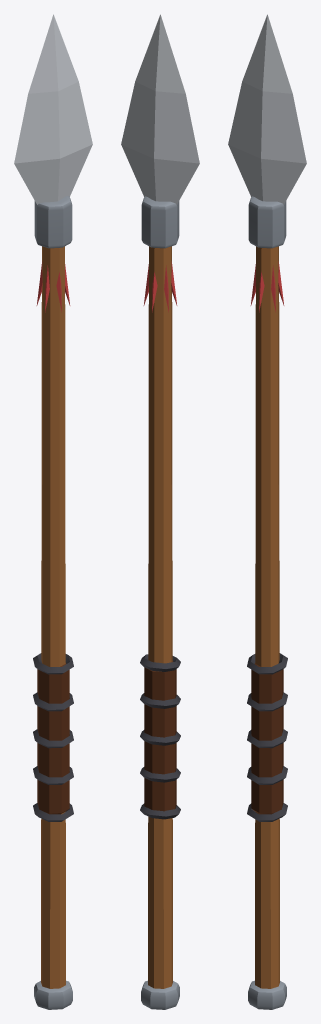
The model's file is IronSpear.fbx.
3 views of the same model, side by side, from view 1: azimuth 30°, elevation 25°; view 2: azimuth 150°, elevation 25°; view 3: azimuth 330°, elevation 25° (orthographic).
Visible parts, largest first — view 1: IronSpear; view 2: IronSpear; view 3: IronSpear.
Boxes of the visible parts, x1,y1,x2,y2 form: IronSpear: [14, 14, 92, 1009]; IronSpear: [121, 14, 199, 1009]; IronSpear: [228, 14, 306, 1009].
Bounding box in the file's own units: 0.56 × 6.72 × 0.2614.
Materials: 1 (1 with a texture image).
